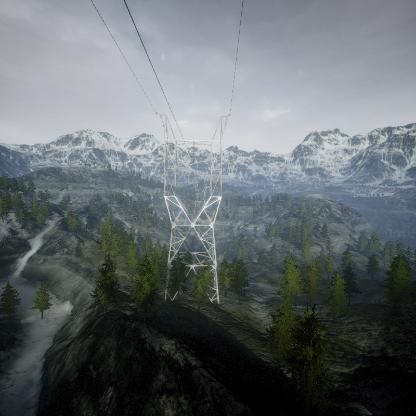tower: (153, 111, 228, 313)
